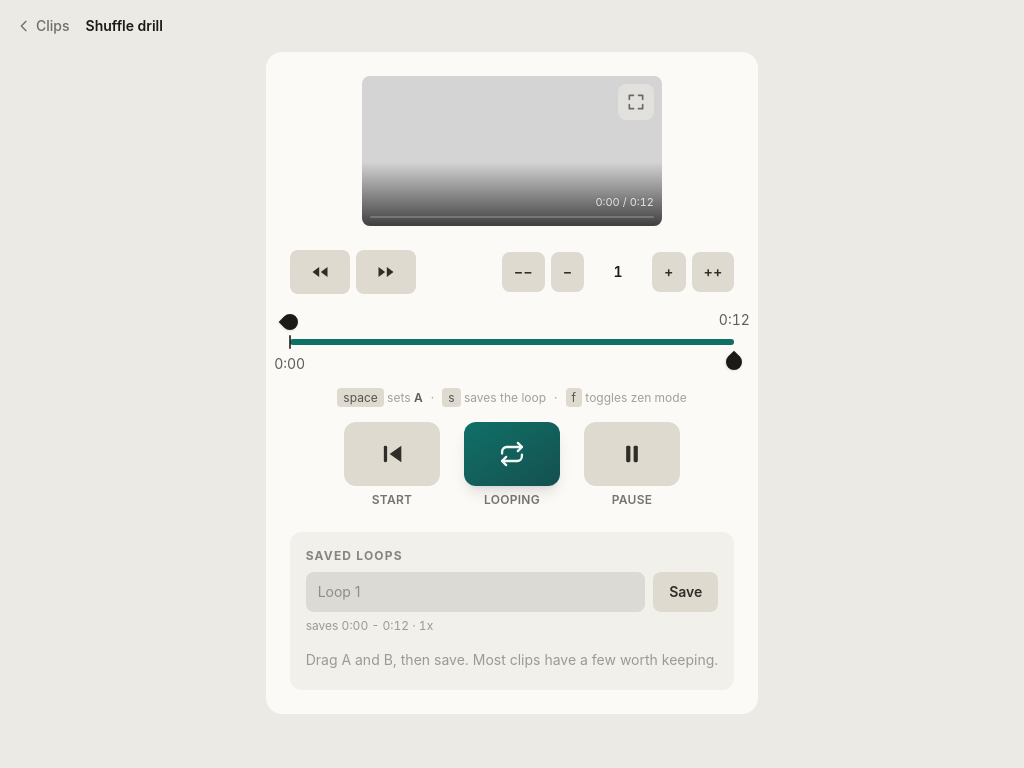
Scenario: holding the clip inside the loop › keeps holding the clip inside the loop while the video is isolated
Step 1. Click the button named "Isolate the video" → x=636, y=102, box [618, 84, 654, 120]
Wait 100 ms
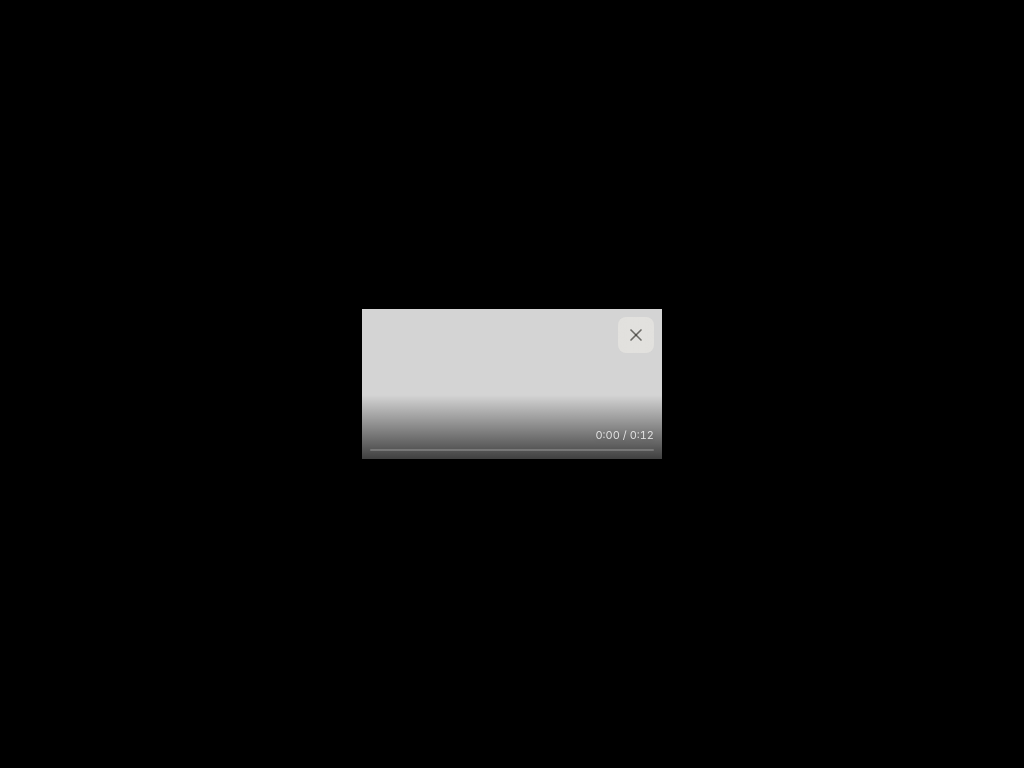
Expected: the button named "Leave the isolated view" is shown, [618, 317, 654, 353]
